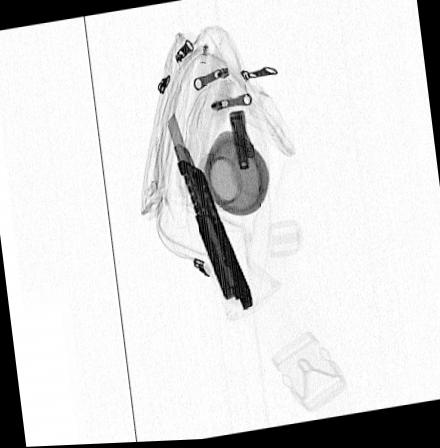Knife: (166, 113, 253, 313)
